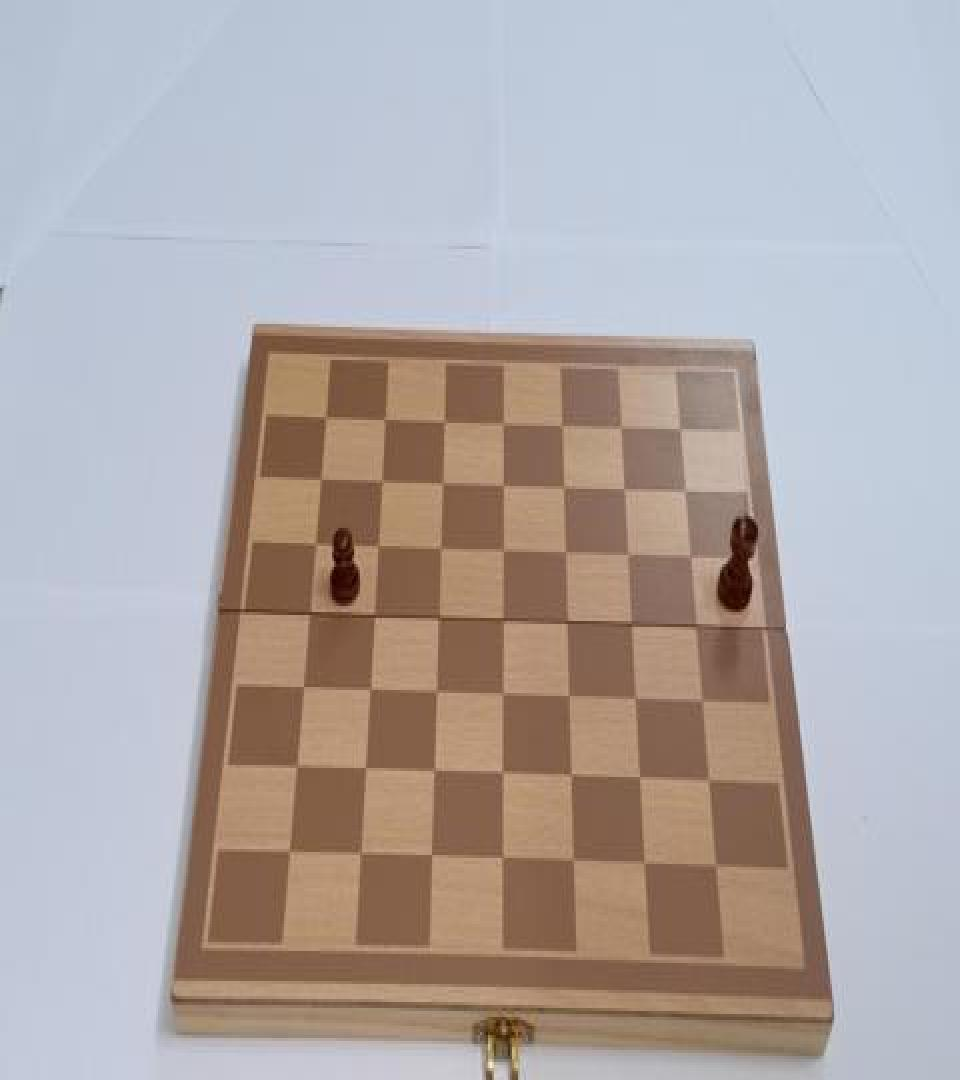xcorner: (310, 466, 328, 494), (434, 406, 452, 434), (424, 760, 442, 788), (555, 472, 573, 500), (613, 412, 631, 440), (315, 404, 333, 431), (304, 532, 322, 559), (291, 676, 309, 703), (285, 756, 303, 783), (374, 405, 392, 432), (371, 468, 389, 495), (367, 534, 385, 561), (363, 604, 381, 631), (359, 678, 377, 705), (354, 759, 372, 786), (349, 844, 367, 871), (432, 470, 450, 497), (428, 606, 446, 633), (426, 681, 444, 708), (421, 846, 439, 873), (493, 408, 511, 435), (493, 471, 511, 498), (493, 537, 511, 564), (493, 683, 511, 710), (493, 849, 511, 876), (553, 411, 571, 438), (557, 538, 575, 565), (559, 609, 577, 636), (561, 684, 579, 711), (563, 765, 581, 792), (565, 851, 583, 878), (616, 474, 634, 501), (624, 612, 642, 639), (628, 687, 646, 714), (633, 766, 651, 793), (672, 414, 690, 441), (683, 543, 701, 570), (696, 689, 714, 716), (710, 855, 728, 882), (298, 602, 316, 628), (277, 842, 295, 868), (430, 536, 448, 562), (493, 608, 511, 634), (493, 764, 511, 790), (620, 542, 638, 568), (638, 854, 656, 880), (678, 476, 696, 502), (689, 614, 707, 640), (703, 770, 721, 796)
